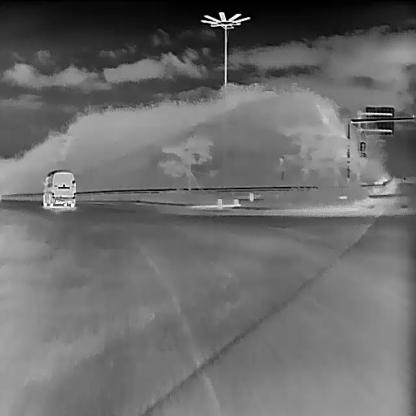car: (42, 169, 76, 210)
